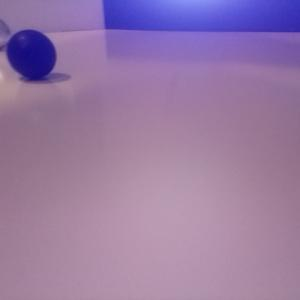alive_ball: (1, 19, 10, 47)
dead_ball: (6, 30, 56, 78)
